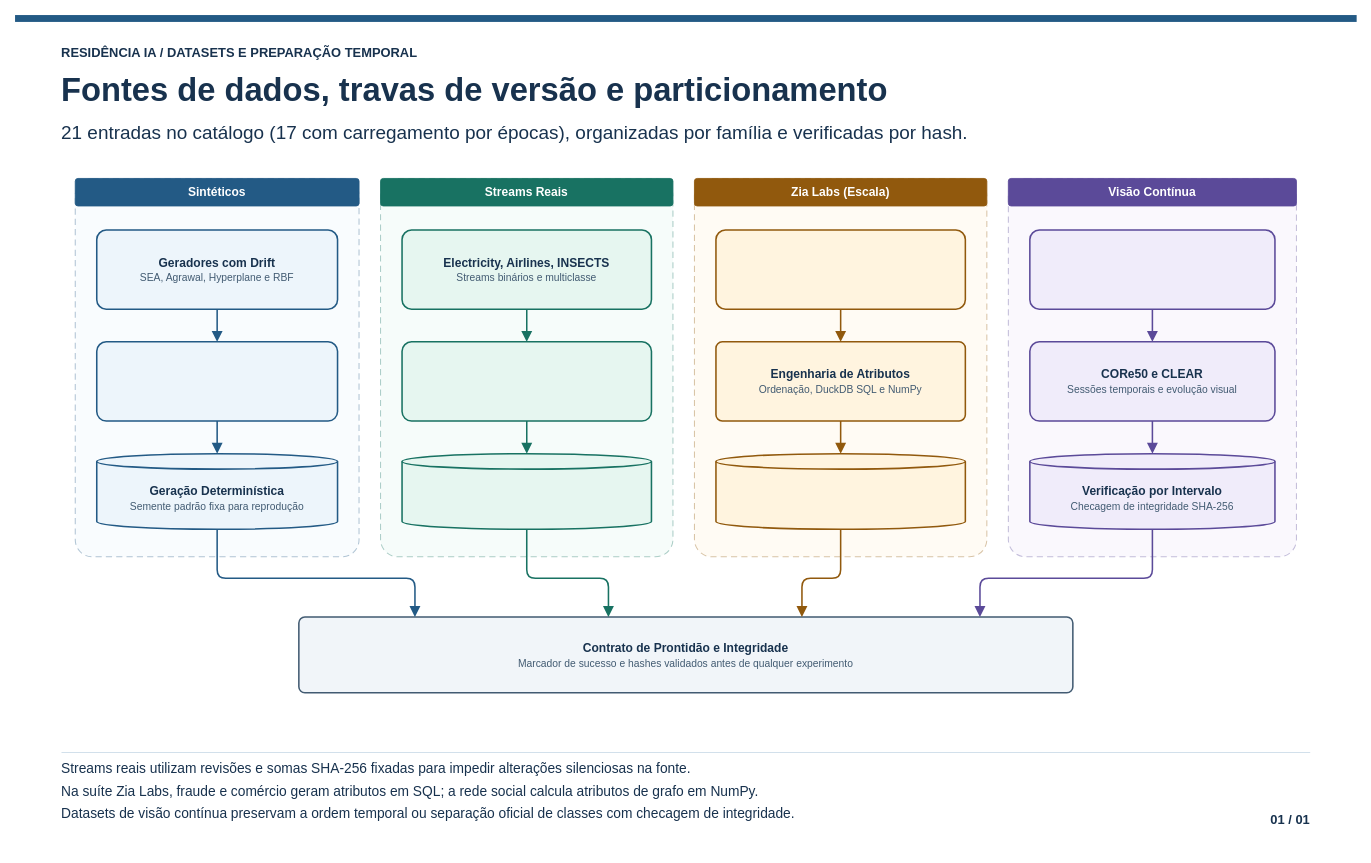
The diagram is 1371 pixels wide and 863 high, and some of its shapes have lost their labels. Each missing label, with the box of its shape:
Coleções Zia Labs Fraude, Social e Comércio (50M-100M): (715, 229, 966, 310)
Divisão Temporal Fixada Blocos e janela final de holdout: (401, 452, 652, 530)
Escopos Smoke e Completo Amostra de 10 mil ou fluxo inteiro: (715, 452, 966, 530)
MNIST e CIFAR Divisão por classes e permutações: (1029, 229, 1275, 310)
Replicação e Regressão Gauss, Circles e Friedman: (96, 341, 338, 421)
Sensor de Gás (UCI) 13.910 amostras em 36 meses: (401, 341, 652, 421)
